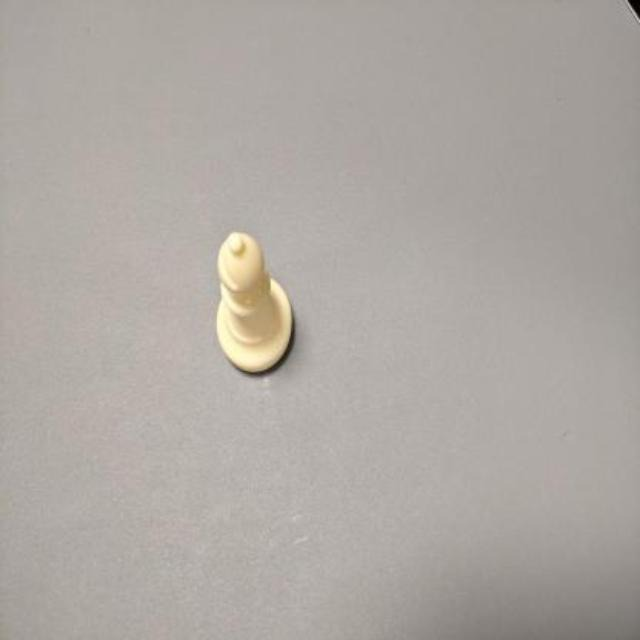white-bishop: (213, 230, 294, 376)
